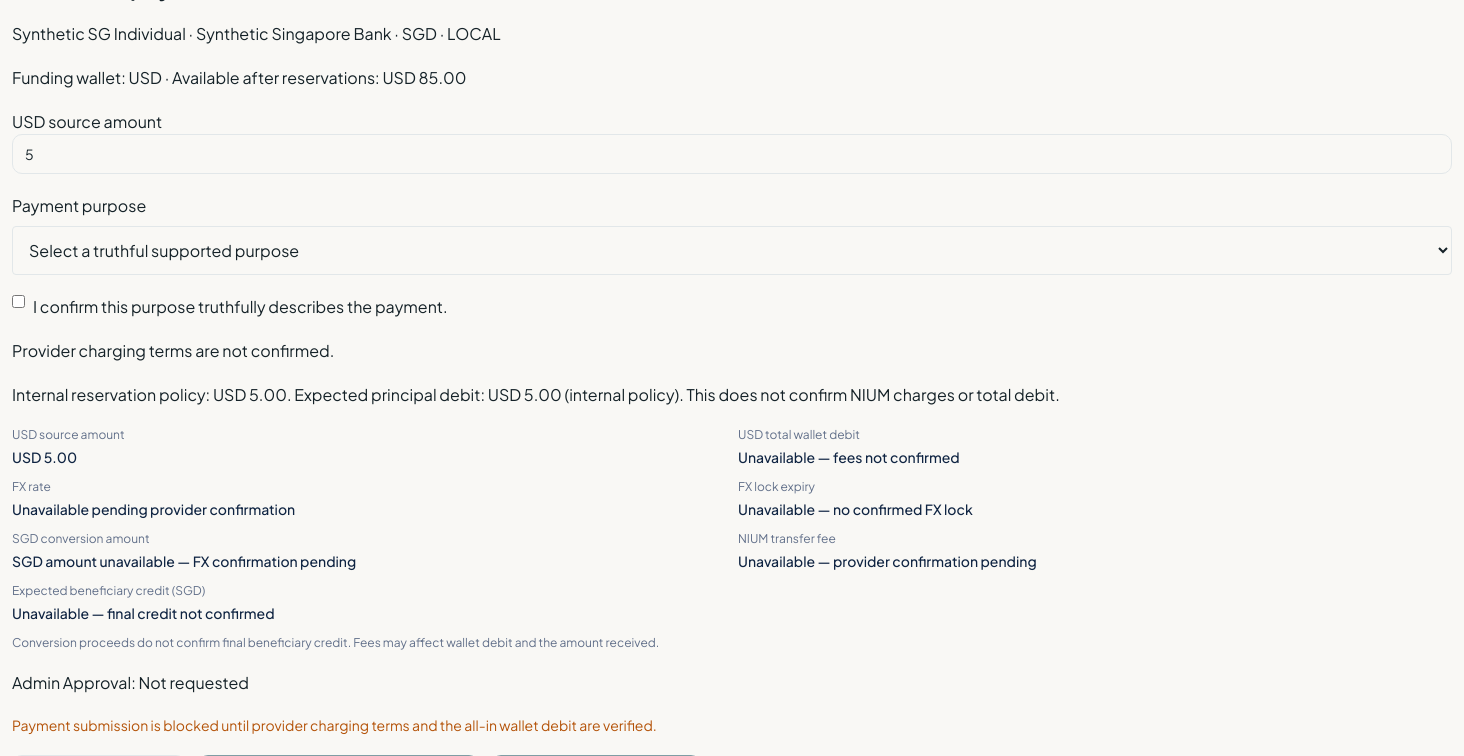
Test: explicit controlled SGD preparation › sends one explicit request on a double click and shows exact FX, estimate and unknown fees
Select "Synthetic purpose, not Production verification" in the dropdown labelled "Payment purpose" at (732, 250), box x1=12 y1=226 x2=1452 y2=275
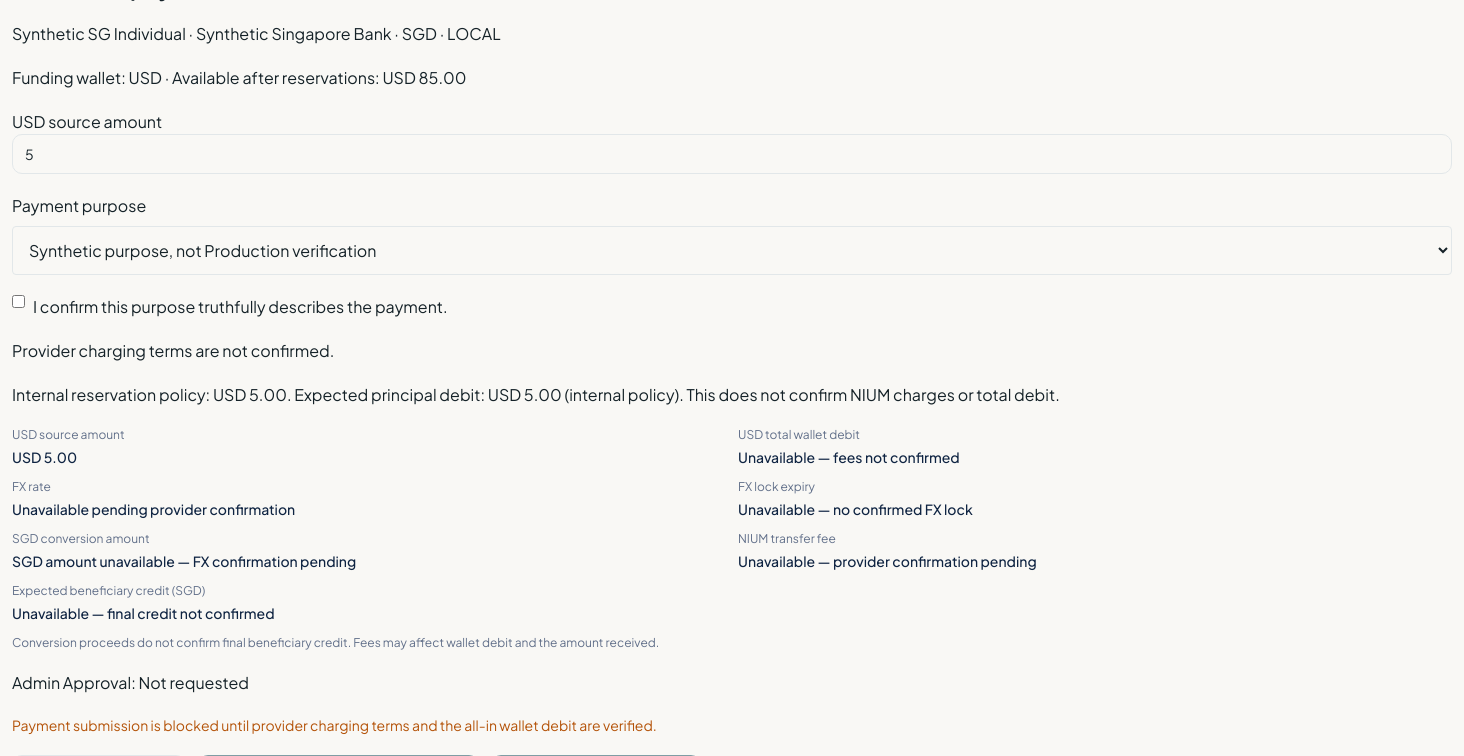
Click the checkbox.
click(18, 302)  # box x1=12 y1=295 x2=25 y2=308
(page scrolled)
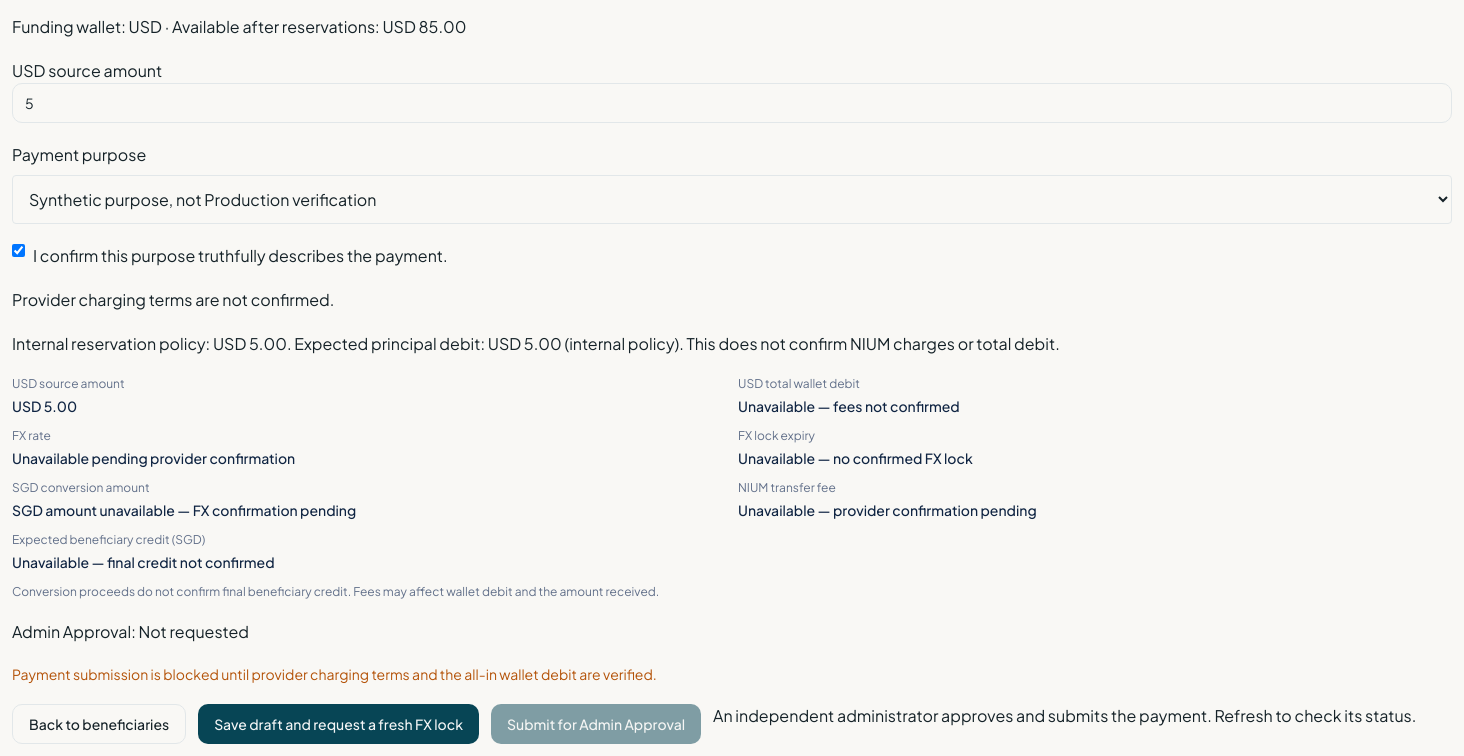
Click the button "Save draft and request a fresh FX lock".
click(339, 724)  # box x1=198 y1=704 x2=479 y2=744
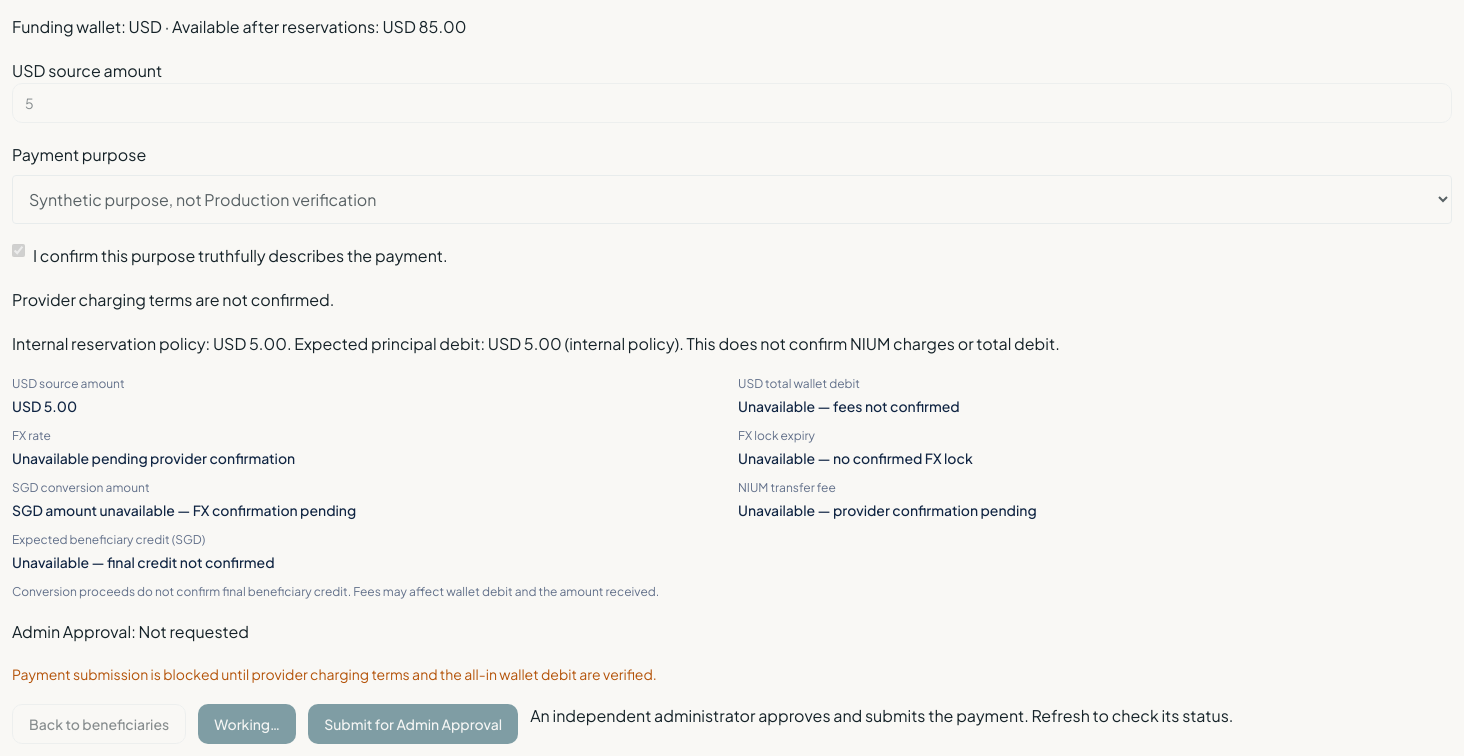
Click the button named "Save draft and request".
click(247, 724)  # box x1=198 y1=704 x2=296 y2=744
(page scrolled)
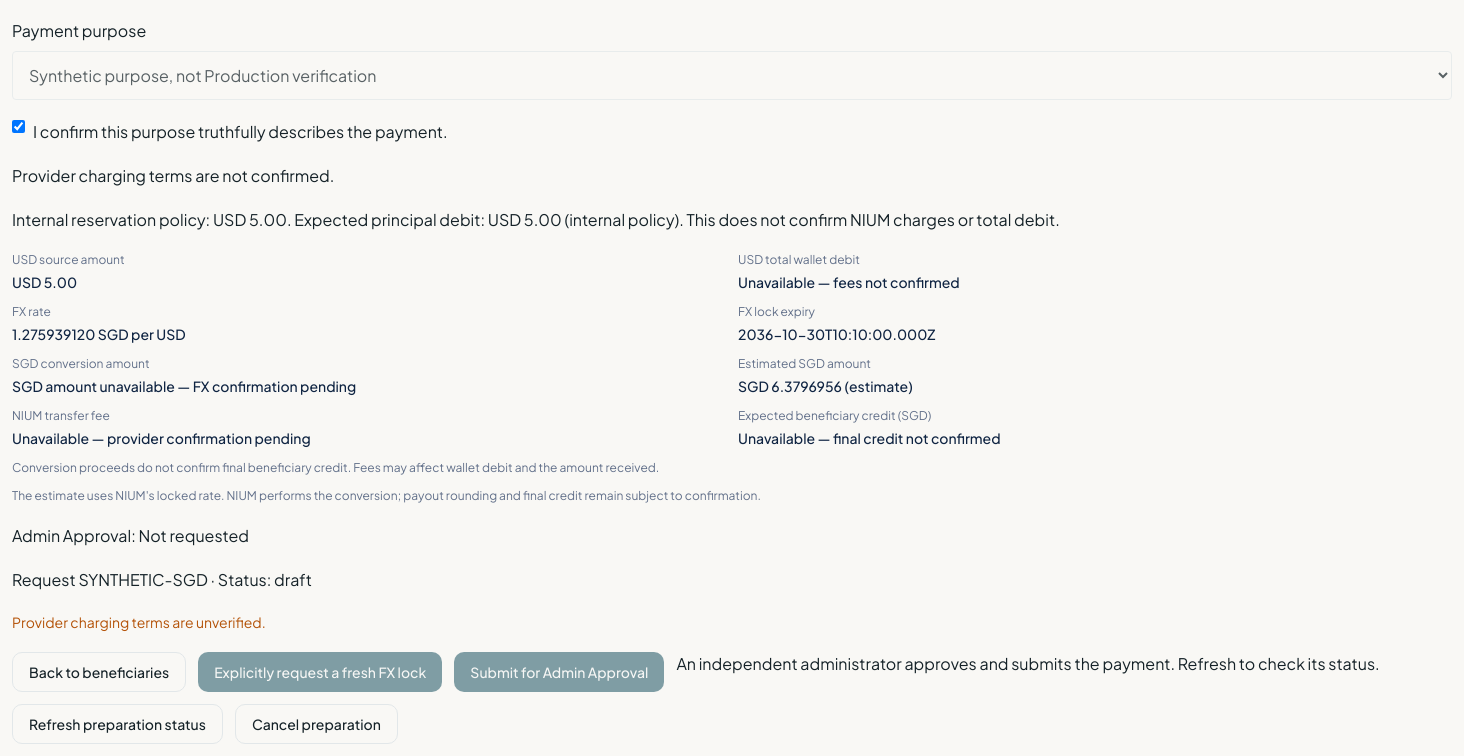
Expected: the text "Provider charging terms are not confirmed." is shown, x1=12 y1=165 x2=334 y2=186
Now the text "1.275939120 SGD per USD" is shown, box x1=12 y1=325 x2=186 y2=343
Now the text "SGD 6.3796956 (estimate)" is shown, box x1=738 y1=377 x2=913 y2=395
